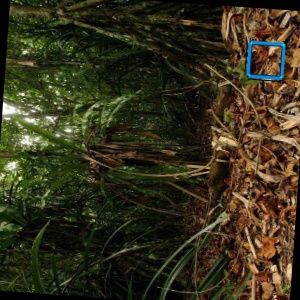square: (244, 39, 286, 81)
